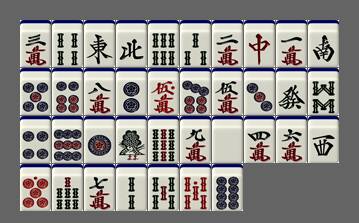0m: (148, 68, 179, 115)
0p: (20, 164, 51, 211)
0s: (180, 164, 211, 211)
1m: (276, 20, 307, 67)
1p: (84, 116, 115, 163)
1s: (116, 116, 147, 163)
1z: (84, 20, 115, 67)
2m: (212, 20, 243, 67)
2p: (116, 68, 147, 115)
2s: (116, 164, 147, 211)
2z: (308, 20, 339, 67)
3m: (20, 20, 51, 67)
3p: (244, 68, 275, 115)
3s: (180, 20, 211, 67)
3z: (308, 116, 339, 163)
4m: (244, 116, 275, 163)
4p: (20, 116, 51, 163)
4s: (52, 20, 83, 67)
4z: (116, 20, 147, 67)
5m: (212, 68, 243, 115)
5p: (20, 68, 51, 115)
5s: (148, 164, 179, 211)
5z: (212, 116, 243, 163)
6m: (276, 116, 307, 163)
6p: (52, 68, 83, 115)
6s: (148, 20, 179, 67)
6z: (276, 68, 307, 115)
7m: (84, 164, 115, 211)
7p: (180, 68, 211, 115)
7s: (52, 164, 83, 211)
7z: (244, 20, 275, 67)
8m: (84, 68, 115, 115)
8p: (212, 164, 243, 211)
8s: (308, 68, 339, 115)
9m: (180, 116, 211, 163)
9p: (52, 116, 83, 163)
9s: (148, 116, 179, 163)
